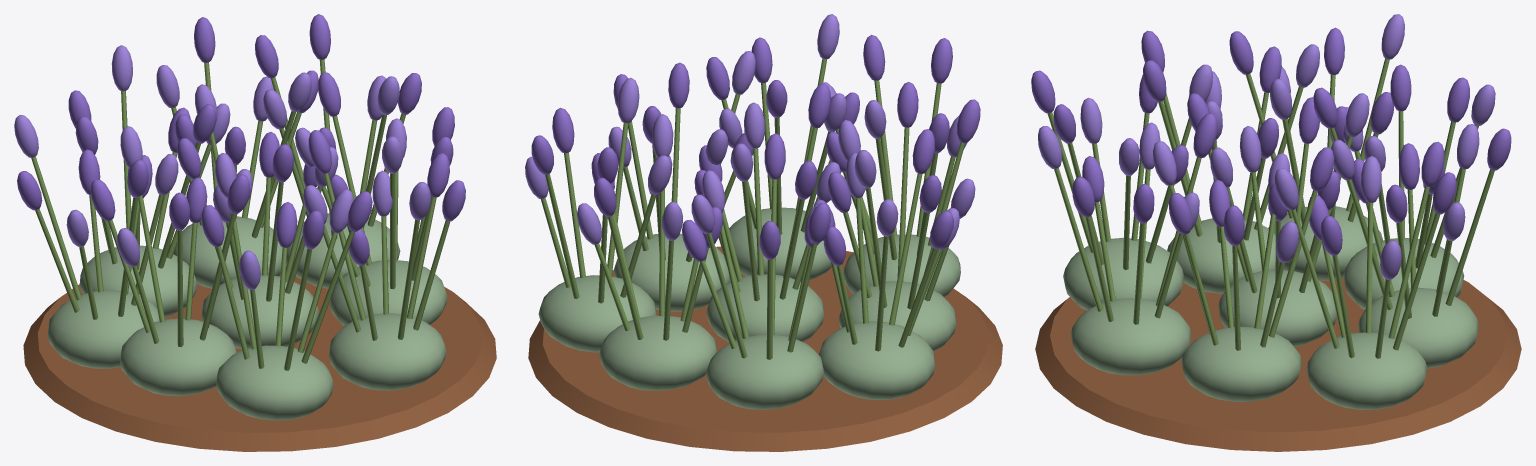
File: sunflowers-lavender.glb
3 views of the same model, side by side, from view 1: azimuth 30°, elevation 25°; view 2: azimuth 150°, elevation 25°; view 3: azimuth 270°, elevation 25° (orthographic). The views are drawn at different scales.
Size of the model in its own units: 1.35 by 0.7443 by 1.33.
